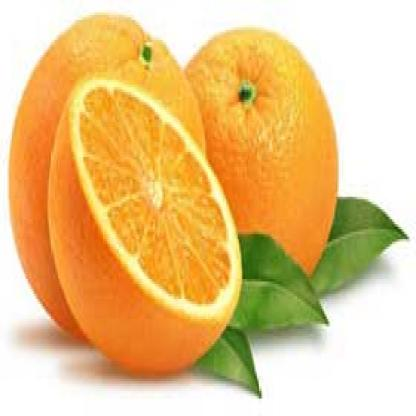orange: (9, 10, 211, 369), (159, 15, 340, 321)
